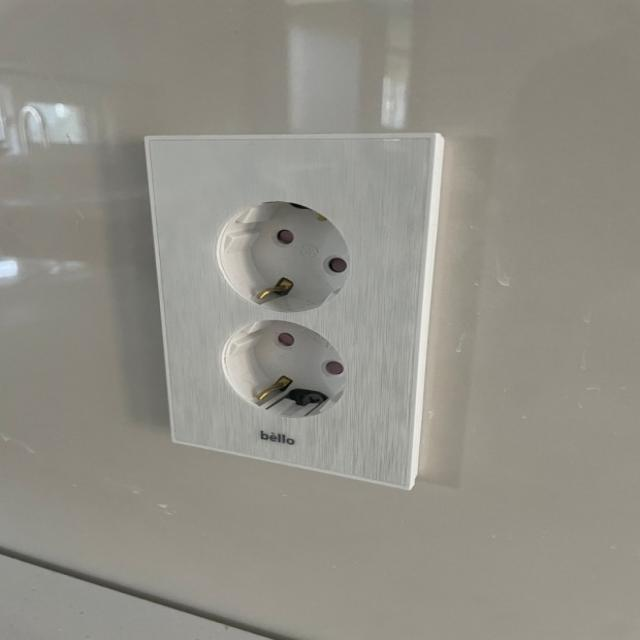typeb: (116, 104, 490, 496)
